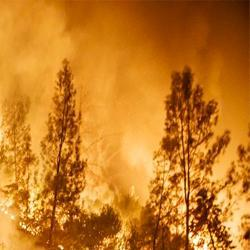fire: (126, 143, 156, 179)
